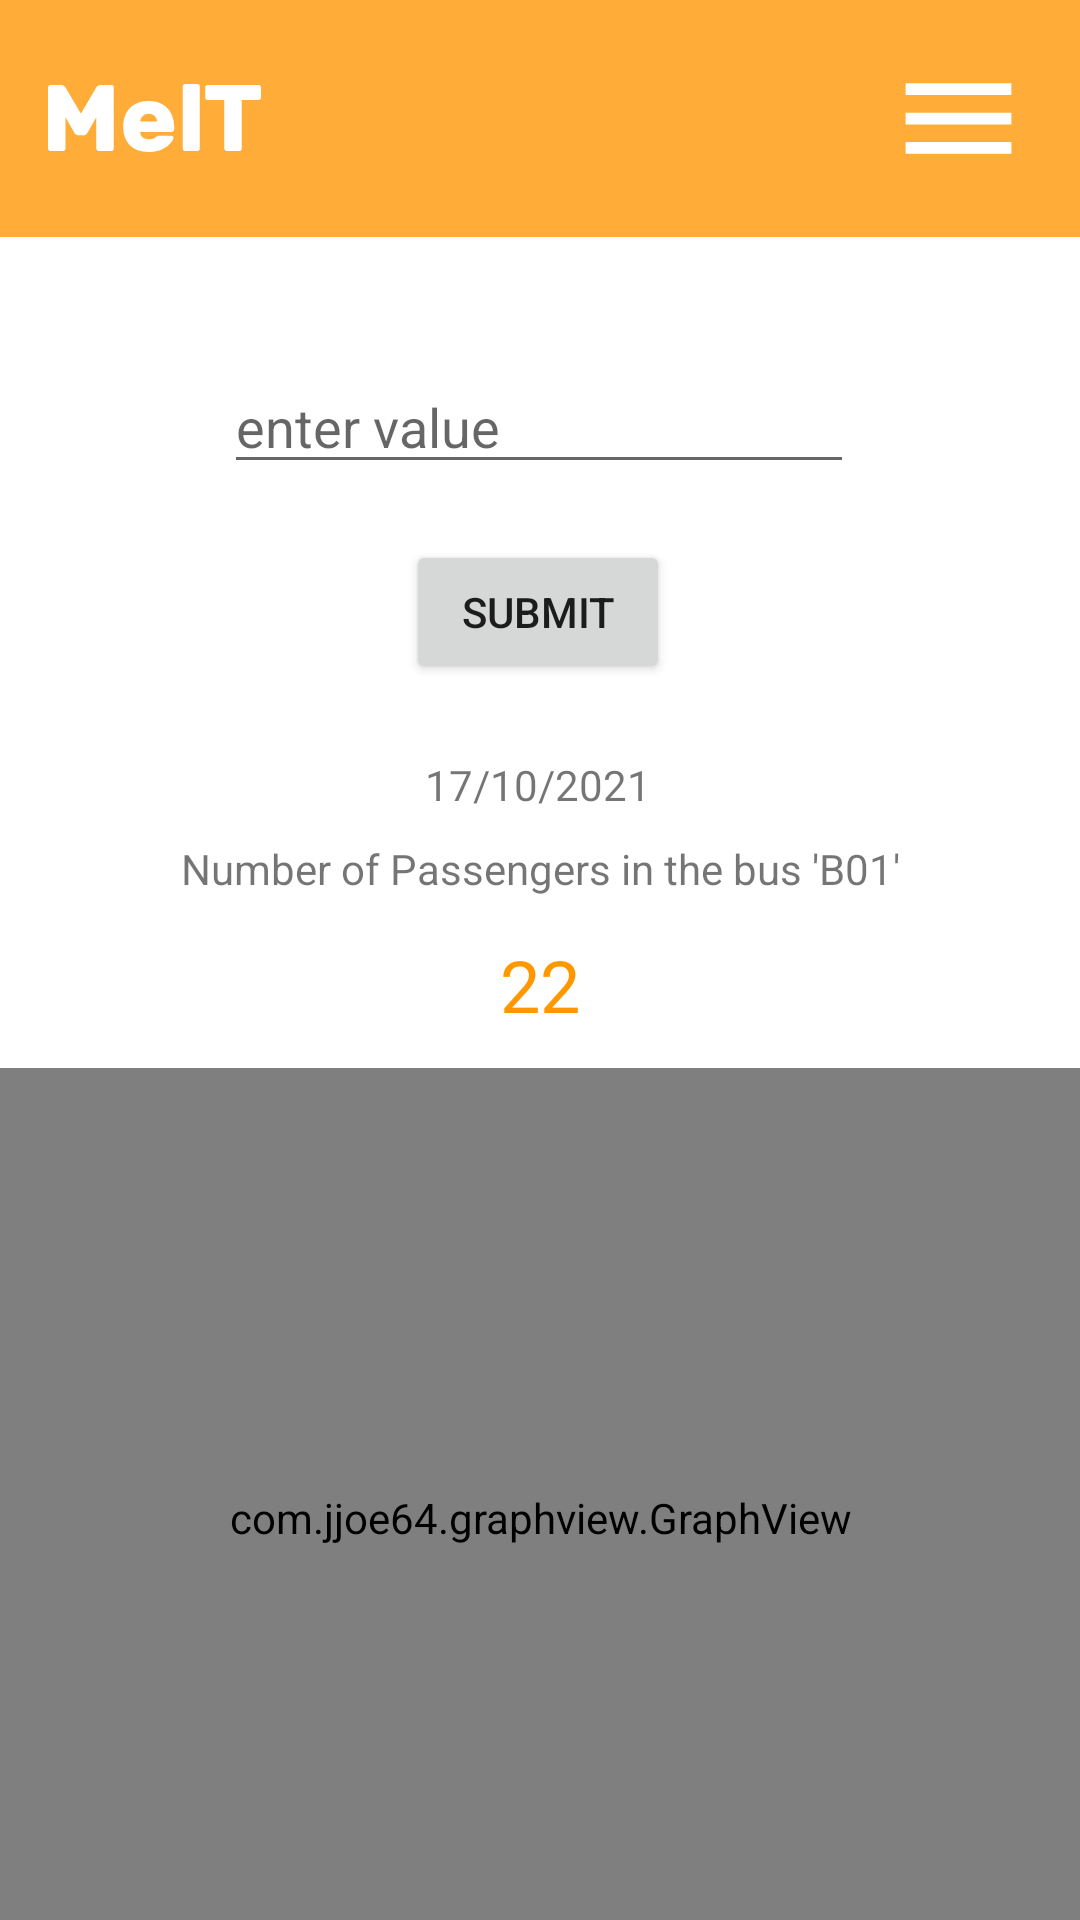

Screen size 1080 × 1920. Icon name, then its box in pixels as (x1, y1, x2, y2):
menu: (905, 83, 1012, 154)
